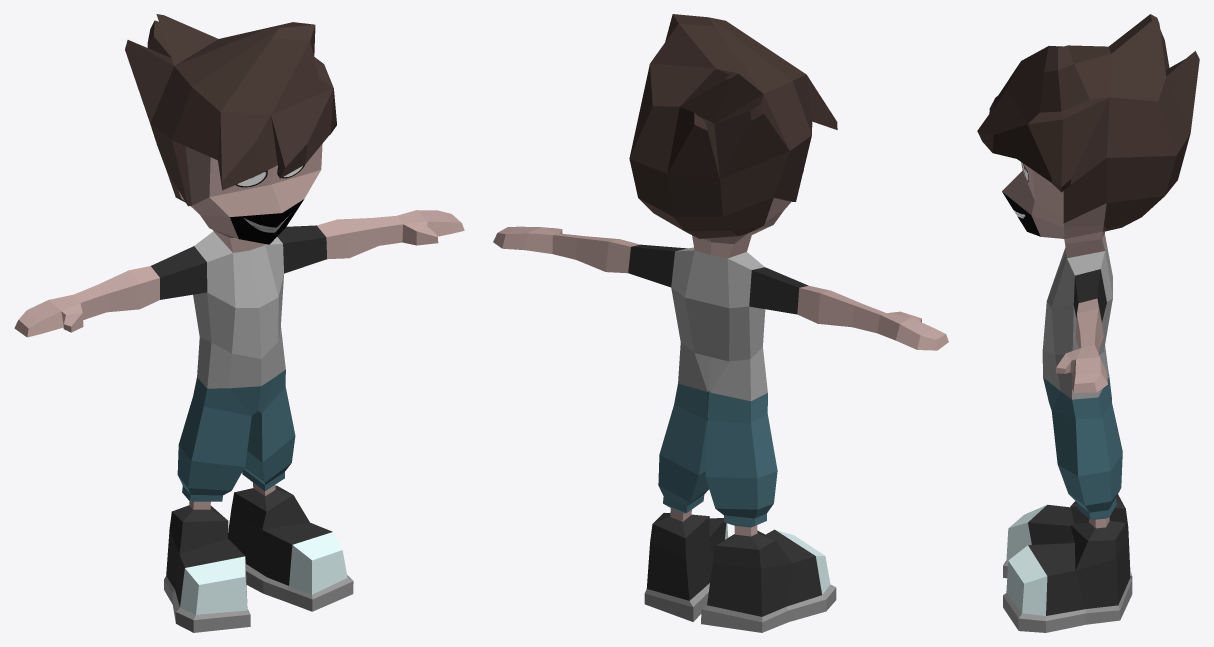
Rendered from Character.fbx.
3 views of the same model, side by side, from view 1: azimuth 30°, elevation 25°; view 2: azimuth 150°, elevation 25°; view 3: azimuth 270°, elevation 25° (orthographic). The views are drawn at different scales.
Parts seen in each view (by area): view 1: Cube; view 2: Cube; view 3: Cube.
Boxes of the visible parts, bbox=[...] form: Cube: bbox=[14, 14, 464, 632]; Cube: bbox=[493, 14, 948, 632]; Cube: bbox=[977, 14, 1199, 632].
Size of the model in its own units: 7.74 by 9.51 by 3.44.
Materials: 10 (2 with a texture image).
